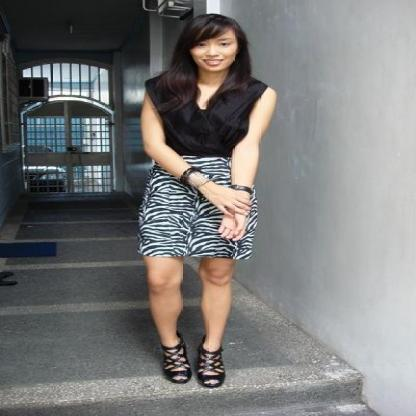shirt: (145, 76, 267, 158)
shoe: (148, 335, 224, 387)
skirt: (140, 156, 253, 268)
